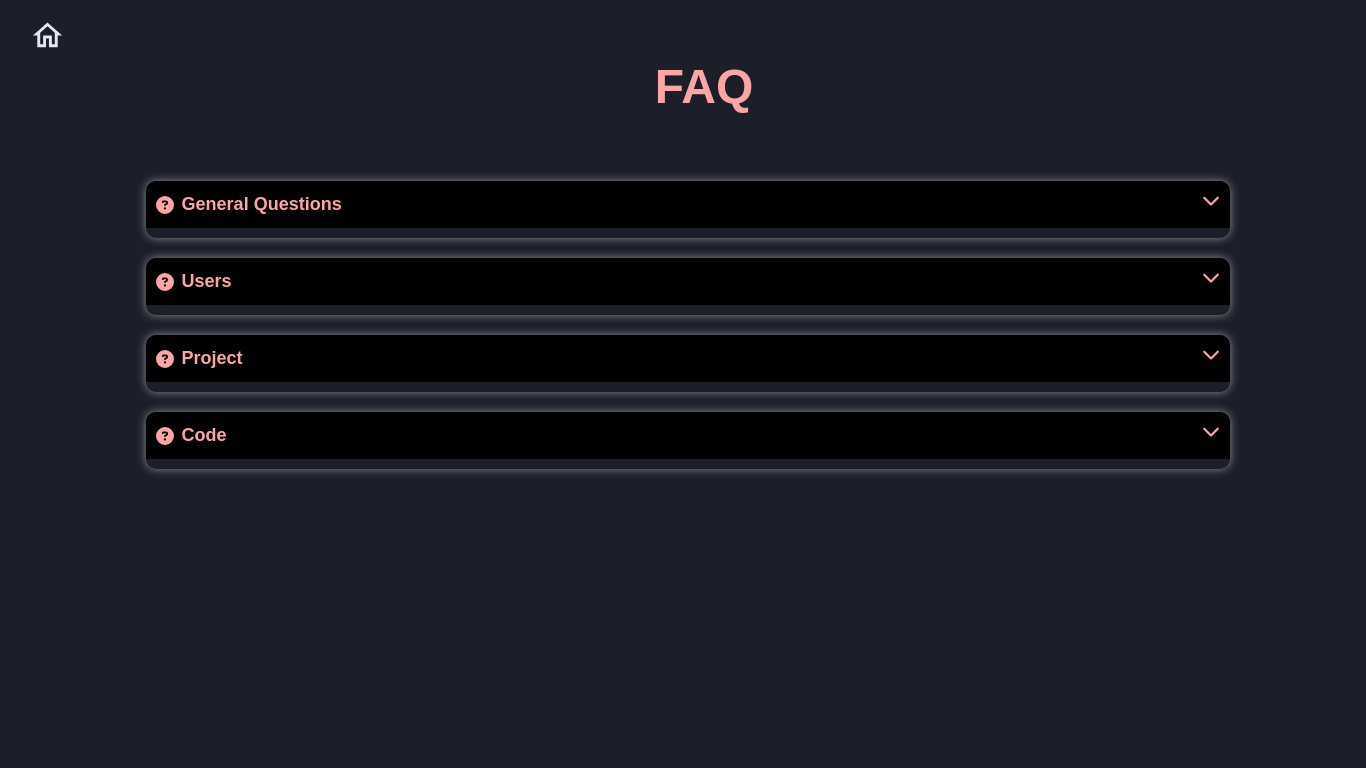
Test: Faq component › renders categories, questions, and toggles answers
The image size is (1366, 768).
Check: the text "Users" is shown, box x1=182 y1=268 x2=232 y2=295
Check: the text "Project" is shown, box x1=182 y1=345 x2=243 y2=372
# Click on a category div to toggle questions
Click the text "General Questions" at (262, 204), box x1=182 y1=191 x2=342 y2=218
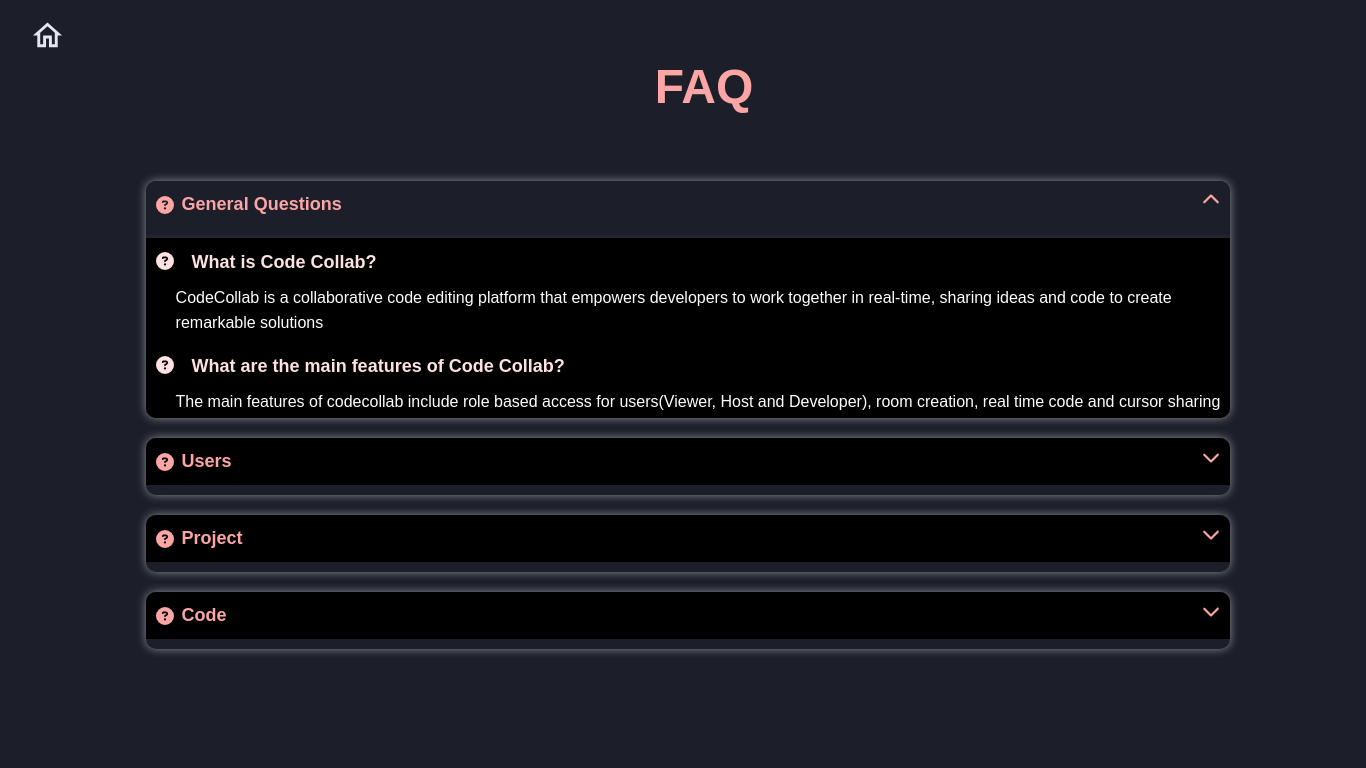
Check: the heading "What is Code Collab?" is shown, box x1=156 y1=252 x2=377 y2=272
Check: the text "CodeCollab is a collaborative code editing platform that empowers developers to work together in real-time, sharing idea" is shown, box x1=176 y1=289 x2=1172 y2=331
Check: the heading "What are the main features of Code Collab?" is shown, box x1=156 y1=356 x2=565 y2=376
# Click on the same category div again to collapse questions
Click the text "General Questions" at (262, 204), box x1=182 y1=191 x2=342 y2=218
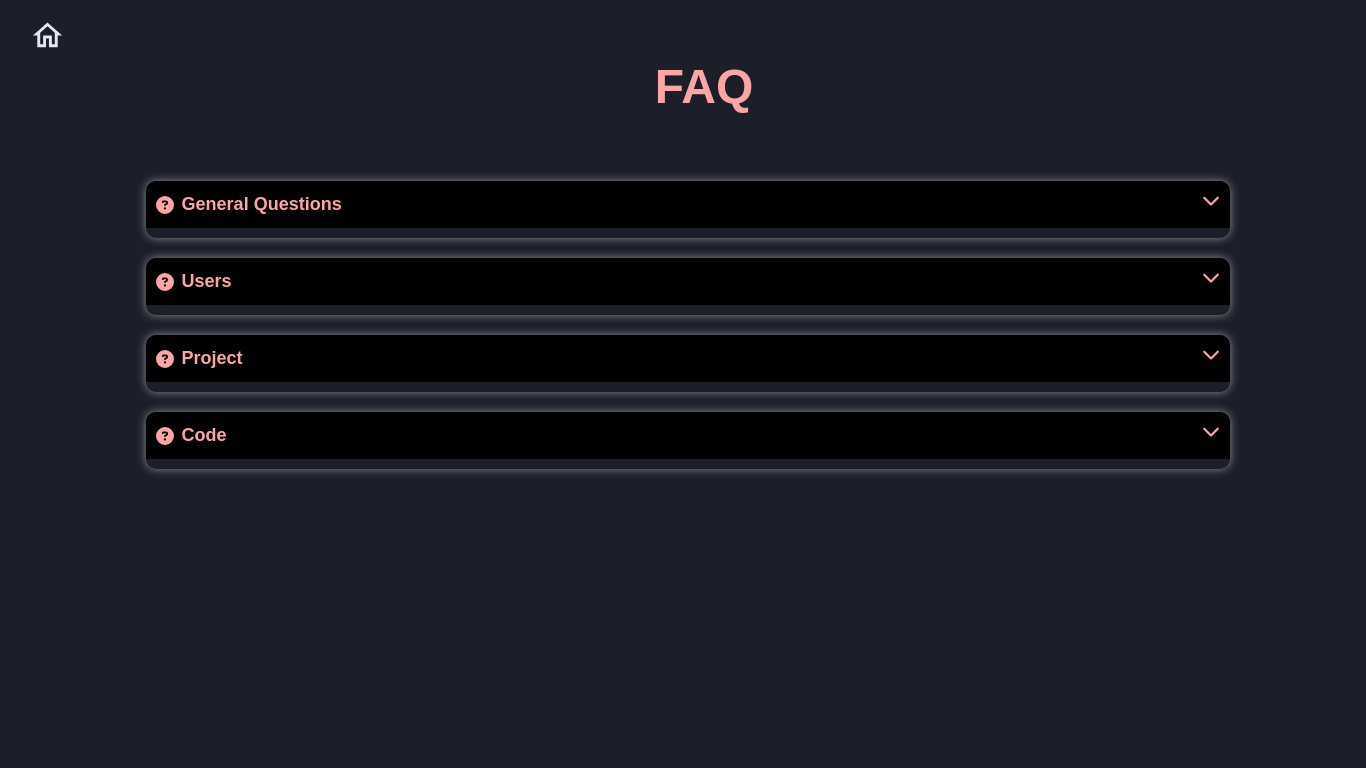
Check: the heading "What is Code Collab?" is gone
Check: the text "CodeCollab is a collaborative code editing platform that empowers developers to work together in real-time, sharing idea" is gone
Check: the heading "What are the main features of Code Collab?" is gone
